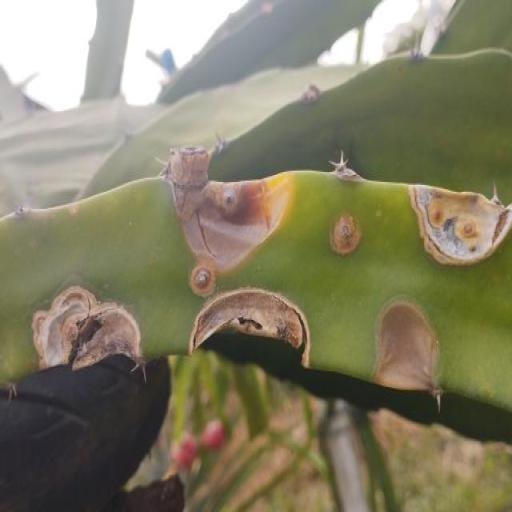stemcanker: (157, 211, 195, 273)
